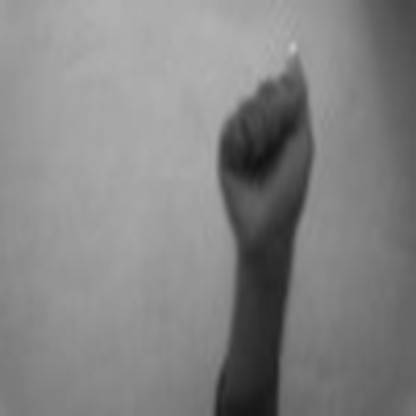a: (210, 51, 320, 243)
